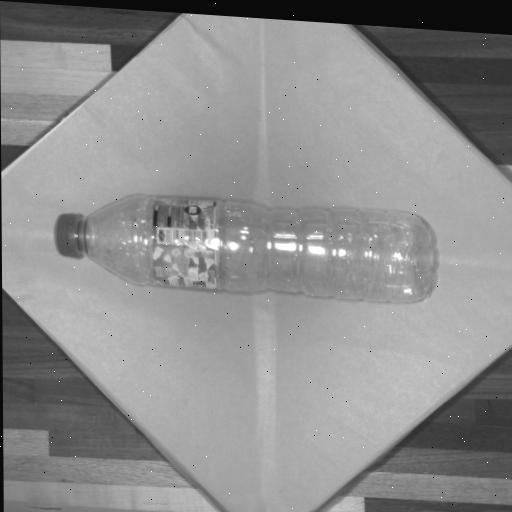bottle: (56, 196, 433, 302)
